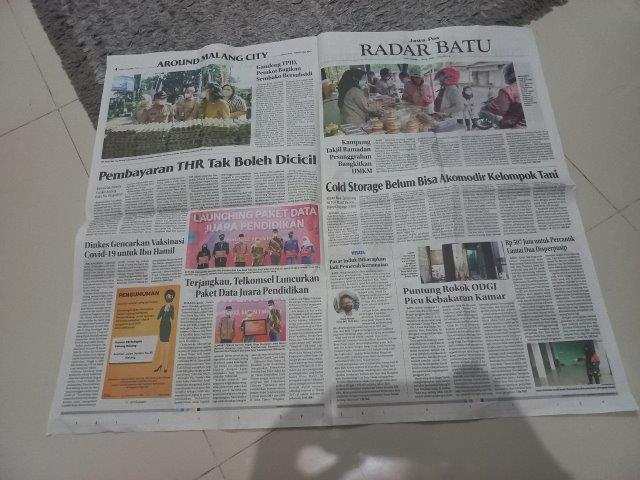kertas: (45, 25, 638, 437)
